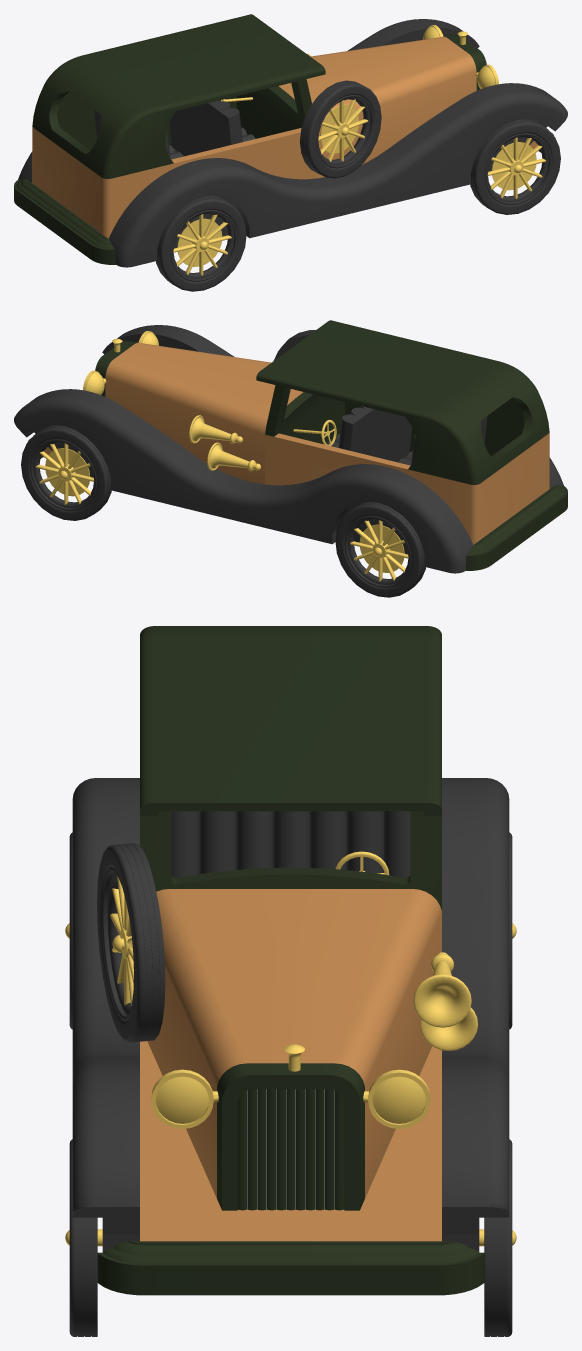
File: car.FBX
3 renders of one model, top to bottom at view 1: azimuth 30°, elevation 25°; view 2: azimuth 150°, elevation 25°; view 3: azimuth 270°, elevation 25°, orthographic. The views are drawn at different scales.
Parts seen in each view (by area): view 1: Group_001, Group_004, Component#3_005, Component#3_004, Component#3_003, Group_003, Component#9_008, Component#9_012, Component#9_011, Component#9_013, Component#9_010, Component#9_009 (+1 smaller); view 2: Group_001, Group_003, Component#3_002, Component#3_001, Group_004, Component#5_002, Component#5_001, Component#9_014, Component#9_009, Component#9_010, Component#9_011, Component#9_013 (+2 smaller); view 3: Group_001, Group_003, Group_004, Component#3_003, Component#3_002, Component#3_005, Component#4_001, Component#4_002, Component#5_002, Component#9_012, Component#9_011, Component#9_013 (+5 smaller).
Part boxes in pixels (x1=…): Group_001: x1=14, y1=14, x2=553, y2=264; Group_004: x1=108, y1=83, x2=567, y2=267; Component#3_005: x1=470, y1=119, x2=560, y2=214; Component#3_004: x1=156, y1=195, x2=246, y2=291; Component#3_003: x1=300, y1=80, x2=381, y2=178; Group_003: x1=18, y1=19, x2=479, y2=182; Component#9_008: x1=219, y1=108, x2=242, y2=146; Component#9_012: x1=210, y1=101, x2=230, y2=148; Component#9_011: x1=201, y1=100, x2=221, y2=150; Component#9_013: x1=193, y1=104, x2=206, y2=152; Component#9_010: x1=185, y1=107, x2=197, y2=154; Component#9_009: x1=177, y1=109, x2=189, y2=155; Group_001: x1=28, y1=320, x2=567, y2=570; Group_003: x1=14, y1=389, x2=473, y2=573; Component#3_002: x1=21, y1=425, x2=111, y2=520; Component#3_001: x1=335, y1=501, x2=425, y2=597; Group_004: x1=102, y1=325, x2=563, y2=488; Component#5_002: x1=189, y1=415, x2=242, y2=443; Component#5_001: x1=207, y1=442, x2=260, y2=471; Component#9_014: x1=339, y1=414, x2=362, y2=452; Component#9_009: x1=351, y1=407, x2=371, y2=454; Component#9_010: x1=360, y1=406, x2=379, y2=456; Component#9_011: x1=383, y1=412, x2=396, y2=460; Component#9_013: x1=375, y1=410, x2=388, y2=458; Group_001: x1=97, y1=626, x2=484, y2=1295; Group_003: x1=442, y1=778, x2=509, y2=1252; Group_004: x1=72, y1=778, x2=139, y2=1252; Component#3_003: x1=97, y1=843, x2=165, y2=1042; Component#3_002: x1=479, y1=1139, x2=516, y2=1336; Component#3_005: x1=65, y1=1139, x2=102, y2=1336; Component#4_001: x1=151, y1=1069, x2=218, y2=1128; Component#4_002: x1=363, y1=1069, x2=430, y2=1128; Component#5_002: x1=413, y1=952, x2=471, y2=1027; Component#9_012: x1=199, y1=811, x2=236, y2=874; Component#9_011: x1=236, y1=811, x2=273, y2=869; Component#9_013: x1=273, y1=811, x2=310, y2=867.
Bounding box in the file's own units: 130 × 47.42 × 54.85.
